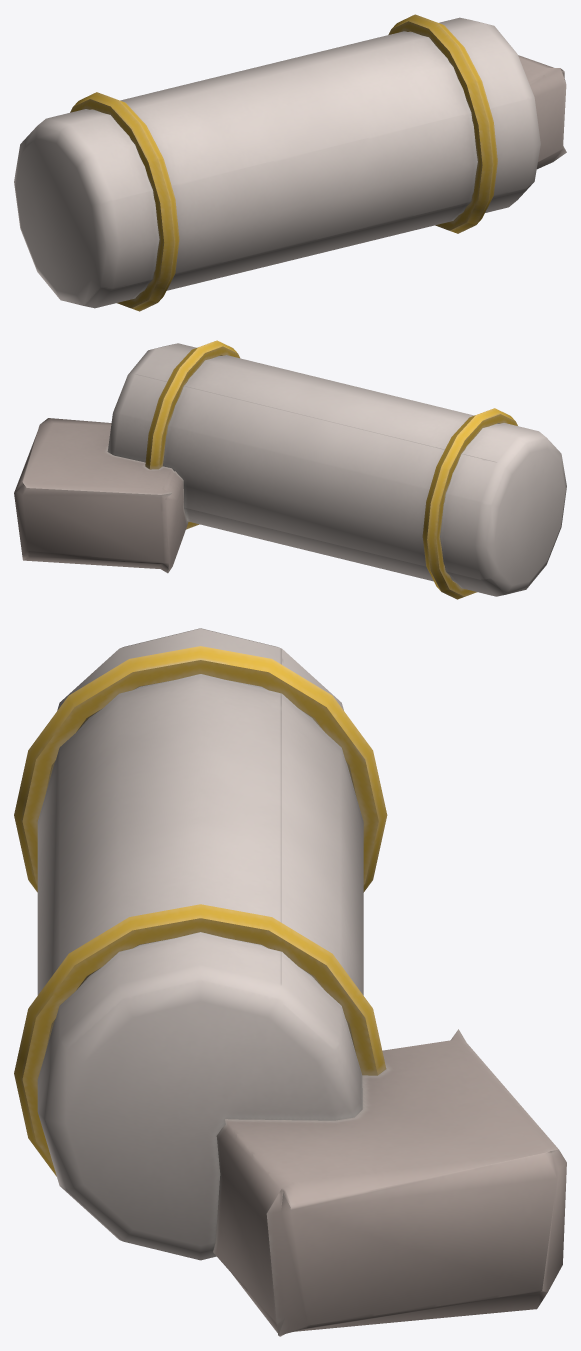
The model's file is hs_obstacle_fallen_column.glb.
3 renders of one model, top to bottom at view 1: azimuth 30°, elevation 25°; view 2: azimuth 150°, elevation 25°; view 3: azimuth 270°, elevation 25°, orthographic. The views are drawn at different scales.
Visible parts, largest first — view 1: hs_obstacle_fallen_column; view 2: hs_obstacle_fallen_column; view 3: hs_obstacle_fallen_column.
Boxes of the visible parts, left/top/right/bottom form: hs_obstacle_fallen_column: left=14, top=14, right=566, bottom=311; hs_obstacle_fallen_column: left=14, top=340, right=566, bottom=599; hs_obstacle_fallen_column: left=14, top=628, right=566, bottom=1336.
Size of the model in its own units: 3.03 by 1.1 by 1.63.
3 materials, 3 textured.
